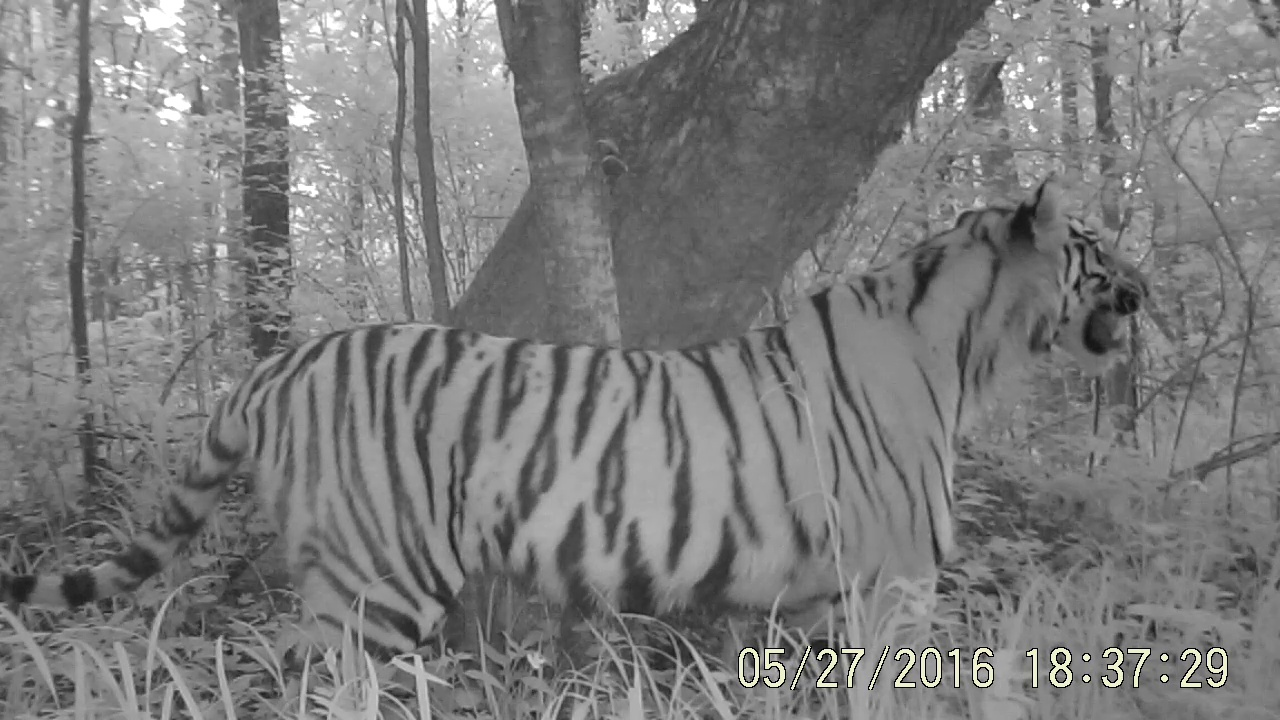Tiger: (1, 186, 1159, 691)
